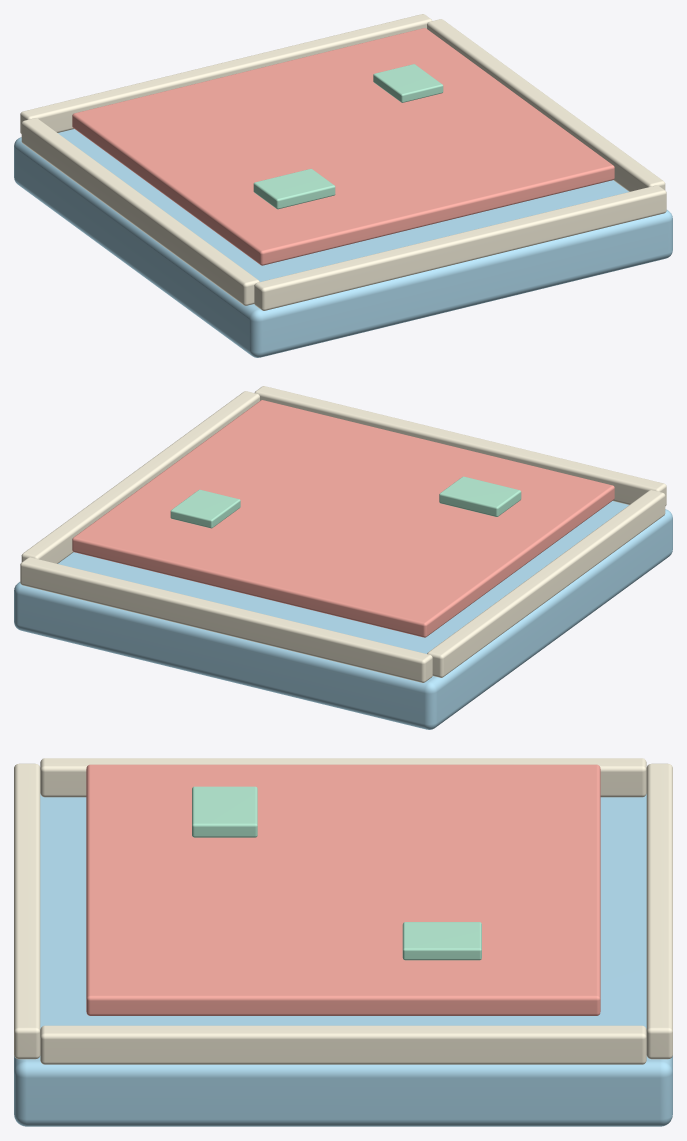
File: platform_candy_medium.glb
3 views of the same model, one above another, from view 1: azimuth 30°, elevation 25°; view 2: azimuth 150°, elevation 25°; view 3: azimuth 270°, elevation 25° (orthographic). The views are drawn at different scales.
Visible parts, largest first — view 1: CoralCakeTop, CloudCakeBase, CreamRimBack, CreamRimLeft, CreamRimFront, CreamRimRight, MintCandyChip, MintCandyChip2; view 2: CoralCakeTop, CloudCakeBase, CreamRimFront, CreamRimLeft, CreamRimBack, CreamRimRight, MintCandyChip, MintCandyChip2; view 3: CoralCakeTop, CloudCakeBase, CreamRimRight, CreamRimFront, CreamRimBack, CreamRimLeft, MintCandyChip, MintCandyChip2.
Part boxes in pixels (x1,y1,x2,y2): CoralCakeTop: (72,28,614,265); CloudCakeBase: (14,129,672,357); CreamRimBack: (254,185,666,310); CreamRimLeft: (21,118,259,305); CreamRimFront: (20,14,432,133); CreamRimRight: (427,19,665,191); MintCandyChip: (253,168,335,209); MintCandyChip2: (373,64,443,102); CoralCakeTop: (72,400,614,637); CloudCakeBase: (14,501,672,729); CreamRimFront: (20,557,432,682); CreamRimLeft: (427,490,665,677); CreamRimBack: (254,386,666,505); CreamRimRight: (21,391,259,563); MintCandyChip: (439,476,521,516); MintCandyChip2: (170,489,240,528); CoralCakeTop: (86,764,600,1015); CloudCakeBase: (14,794,672,1126); CreamRimRight: (40,1025,646,1064); CreamRimFront: (646,763,672,1059); CreamRimBack: (14,763,40,1059); CreamRimLeft: (40,758,646,797); MintCandyChip: (192,786,257,837); MintCandyChip2: (402,922,481,960).
Size of the model in its own units: 3 by 0.63 by 3.
